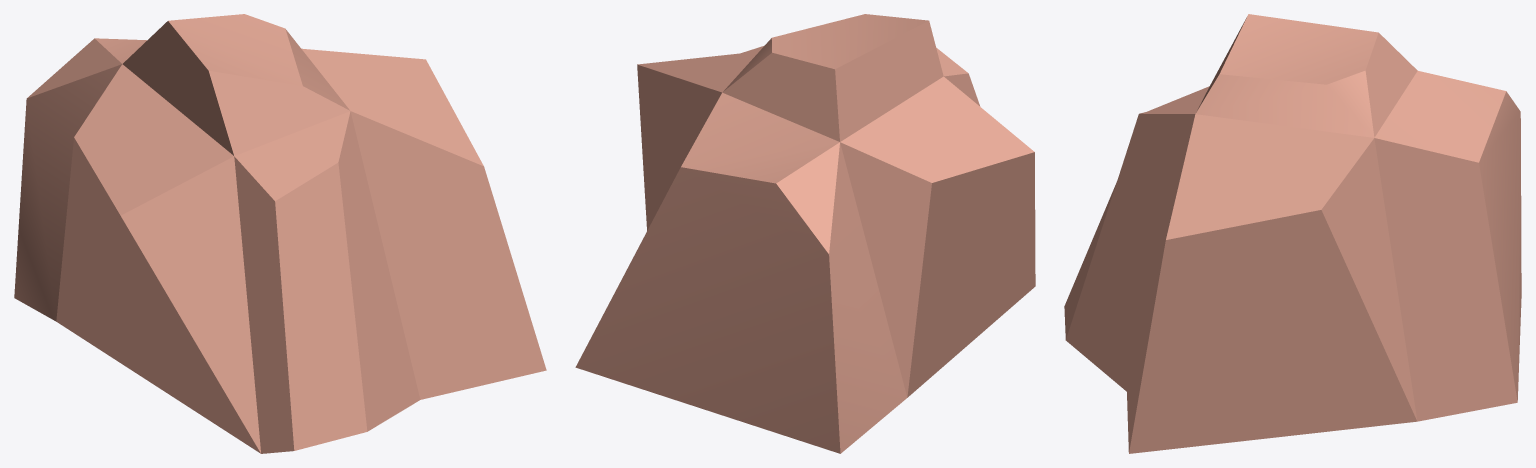
Rendered from RockOk_2.fbx.
3 renders of one model, left to right at view 1: azimuth 30°, elevation 25°; view 2: azimuth 150°, elevation 25°; view 3: azimuth 270°, elevation 25°, orthographic. The views are drawn at different scales.
Visible parts, largest first — view 1: RockOk_2; view 2: RockOk_2; view 3: RockOk_2.
Part boxes in pixels (box(x1,y1,x2,y2)): RockOk_2: box(14, 14, 546, 453); RockOk_2: box(575, 14, 1035, 453); RockOk_2: box(1064, 14, 1521, 453).
Size of the model in its own units: 42.65 by 36.24 by 46.97.
